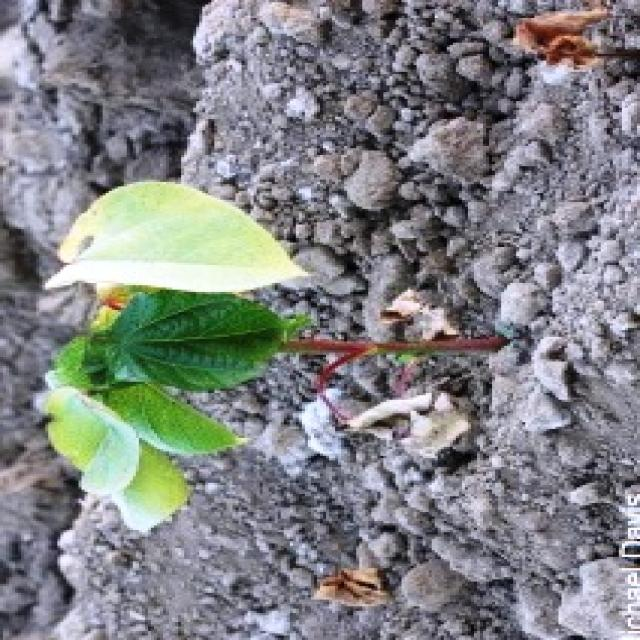Fusarium Wilt: (33, 155, 526, 544)
